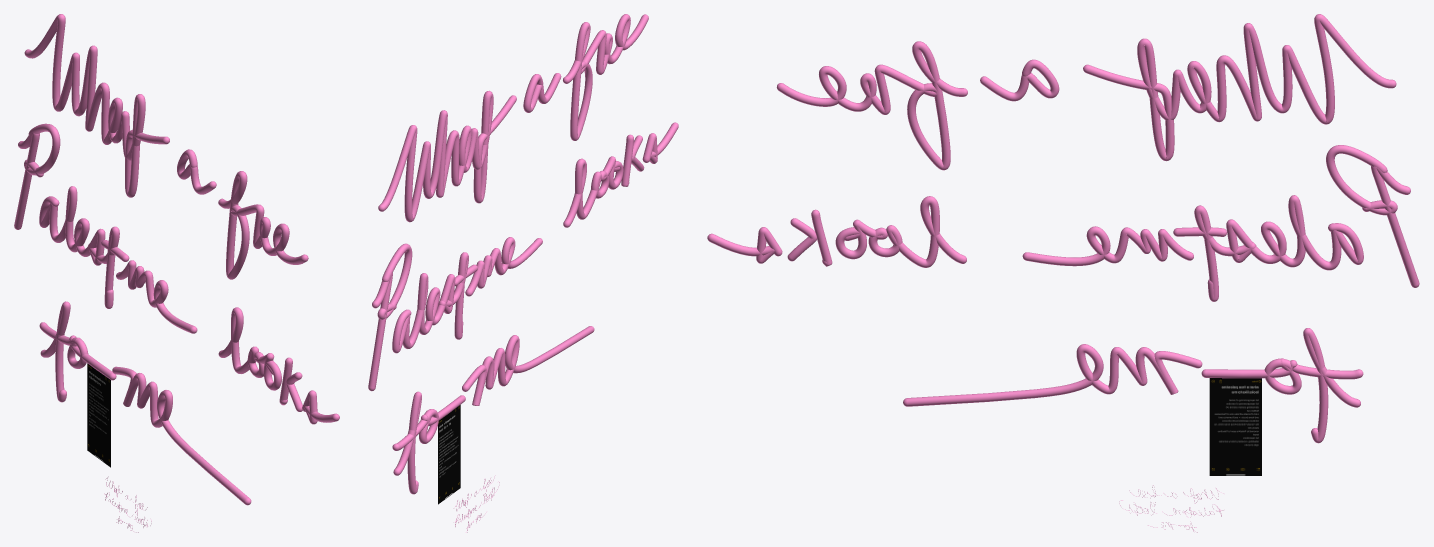
Rendered from FreePali2me.fbx.
3 renders of one model, left to right at view 1: azimuth 30°, elevation 25°; view 2: azimuth 150°, elevation 25°; view 3: azimuth 270°, elevation 25°, orthographic. The views are drawn at different scales.
Parts seen in each view (by area): view 1: s.0082, s.0084, s.0087, s.0108, s.0020, s.0095, s.0092, s.0105, s.0085, s.0107, s.0086, s.0083 (+1 smaller); view 2: s.0082, s.0084, s.0087, s.0108, s.0020, s.0095, s.0092, s.0105, s.0085, s.0086, s.0083, s.0107 (+2 smaller); view 3: s.0082, s.0084, s.0020, s.0087, s.0108, s.0095, s.0092, s.0105, s.0086, s.0107, s.0085, s.0083 (+1 smaller).
Boxes of the visible parts, left/top/right/bottom form: s.0082: left=24, top=14, right=169, bottom=197; s.0084: left=218, top=171, right=308, bottom=279; s.0087: left=39, top=186, right=119, bottom=308; s.0108: left=112, top=366, right=251, bottom=505; s.0020: left=87, top=363, right=110, bottom=467; s.0095: left=218, top=307, right=281, bottom=390; s.0092: left=116, top=260, right=197, bottom=333; s.0105: left=40, top=301, right=70, bottom=402; s.0085: left=14, top=132, right=39, bottom=229; s.0107: left=67, top=337, right=116, bottom=380; s.0086: left=24, top=123, right=60, bottom=177; s.0083: left=177, top=149, right=216, bottom=194; s.0082: left=378, top=90, right=516, bottom=222; s.0084: left=563, top=14, right=648, bottom=140; s.0087: left=392, top=252, right=468, bottom=353; s.0108: left=462, top=326, right=594, bottom=405; s.0020: left=438, top=405, right=460, bottom=504; s.0095: left=563, top=156, right=623, bottom=227; s.0092: left=465, top=237, right=542, bottom=296; s.0105: left=393, top=391, right=421, bottom=494; s.0085: left=368, top=273, right=392, bottom=391; s.0086: left=377, top=243, right=412, bottom=319; s.0083: left=523, top=73, right=561, bottom=112; s.0107: left=419, top=395, right=465, bottom=443; s.0082: left=1083, top=14, right=1396, bottom=161; s.0084: left=776, top=41, right=967, bottom=170; s.0020: left=1209, top=378, right=1261, bottom=475; s.0087: left=1194, top=195, right=1363, bottom=301; s.0108: left=903, top=344, right=1202, bottom=406; s.0095: left=835, top=196, right=966, bottom=267; s.0092: left=1022, top=226, right=1193, bottom=266; s.0105: left=1303, top=328, right=1360, bottom=443; s.0086: left=1326, top=145, right=1397, bottom=215; s.0107: left=1201, top=358, right=1301, bottom=394; s.0085: left=1371, top=166, right=1419, bottom=287; s.0083: left=980, top=59, right=1059, bottom=101.
Bounding box in the file's own units: 4.65 × 377 × 303.
Materials: 3 (1 with a texture image).
